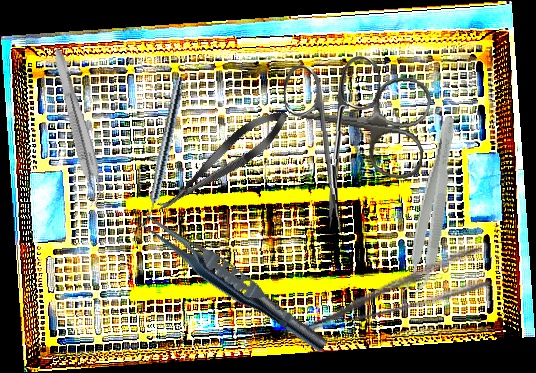Dressing Forceps: (289, 243, 492, 338)
Handpiece: (140, 75, 187, 227)
Iris Scissors: (282, 55, 386, 235), (287, 63, 434, 182)
Micro Scissor: (150, 100, 296, 222)
Tissue Forceps: (129, 205, 334, 357), (399, 114, 462, 298), (43, 46, 111, 209)
